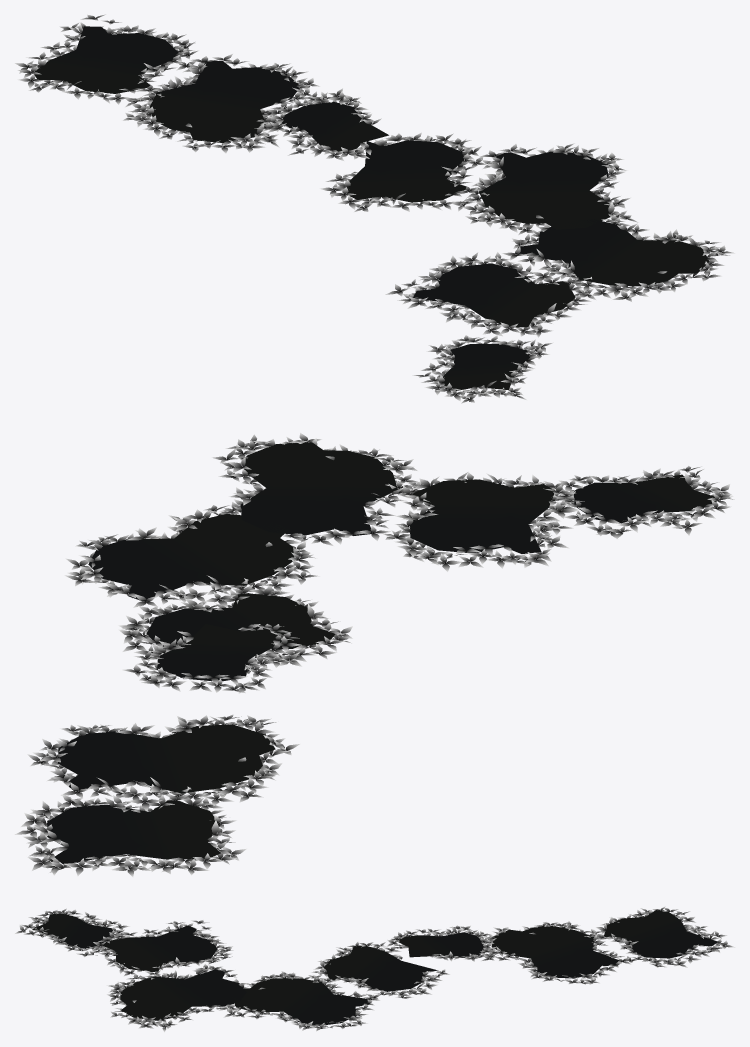
File: SM_ENV_KNFRST_LeafShadow_GroupC.FBX
The picture shows the model from 3 angles, top to bottom: view 1: azimuth 30°, elevation 25°; view 2: azimuth 150°, elevation 25°; view 3: azimuth 270°, elevation 25°; orthographic projection. The views are drawn at different scales.
Parts seen in each view (by area): view 1: SM_ENV_KNFRST_LeafShadow_GroupC; view 2: SM_ENV_KNFRST_LeafShadow_GroupC; view 3: SM_ENV_KNFRST_LeafShadow_GroupC.
Boxes of the visible parts, left/top/right/bottom form: SM_ENV_KNFRST_LeafShadow_GroupC: left=14, top=14, right=734, bottom=403; SM_ENV_KNFRST_LeafShadow_GroupC: left=14, top=432, right=734, bottom=877; SM_ENV_KNFRST_LeafShadow_GroupC: left=15, top=906, right=735, bottom=1032.
Size of the model in its own units: 1698 by 185 by 3922.
